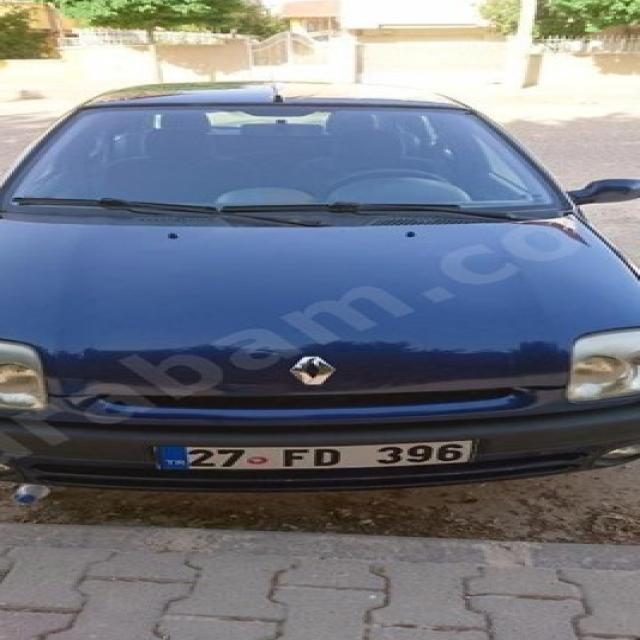license_plate: (152, 438, 478, 469)
